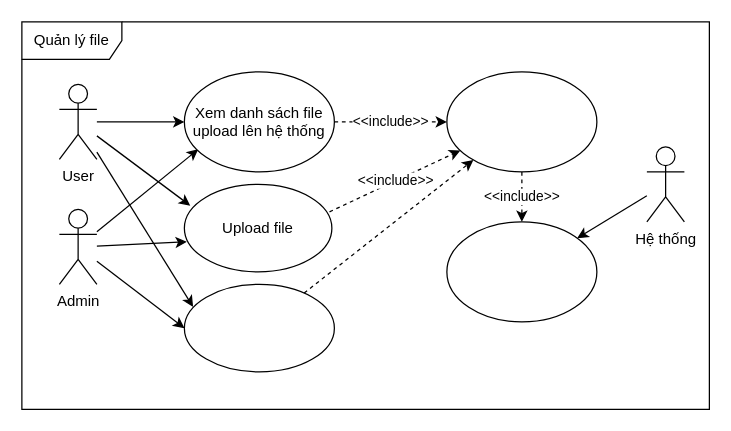
Image size: 731x431. Some labels were removed from this diagram. The shapes that lost their labels are listed below. From the top down, each one's box as (x1, y1, x2, y2) in pixels, then its label:
(446, 71, 597, 172): Đăng nhập
(446, 221, 597, 322): Kiểm tra quyền hạn
(183, 283, 334, 372): Download file
